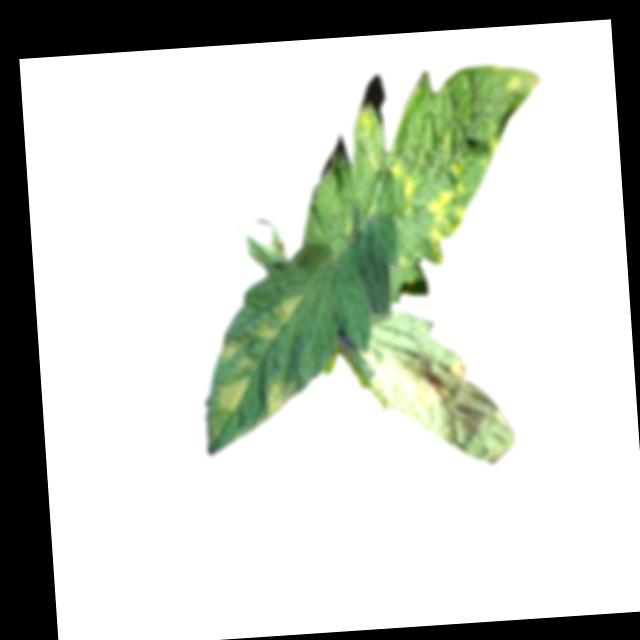Leaf_Mold: (427, 182, 482, 261), (396, 359, 468, 412), (251, 293, 311, 341), (210, 373, 258, 421), (261, 377, 304, 425), (489, 63, 541, 97), (388, 156, 417, 204), (218, 335, 251, 367)
